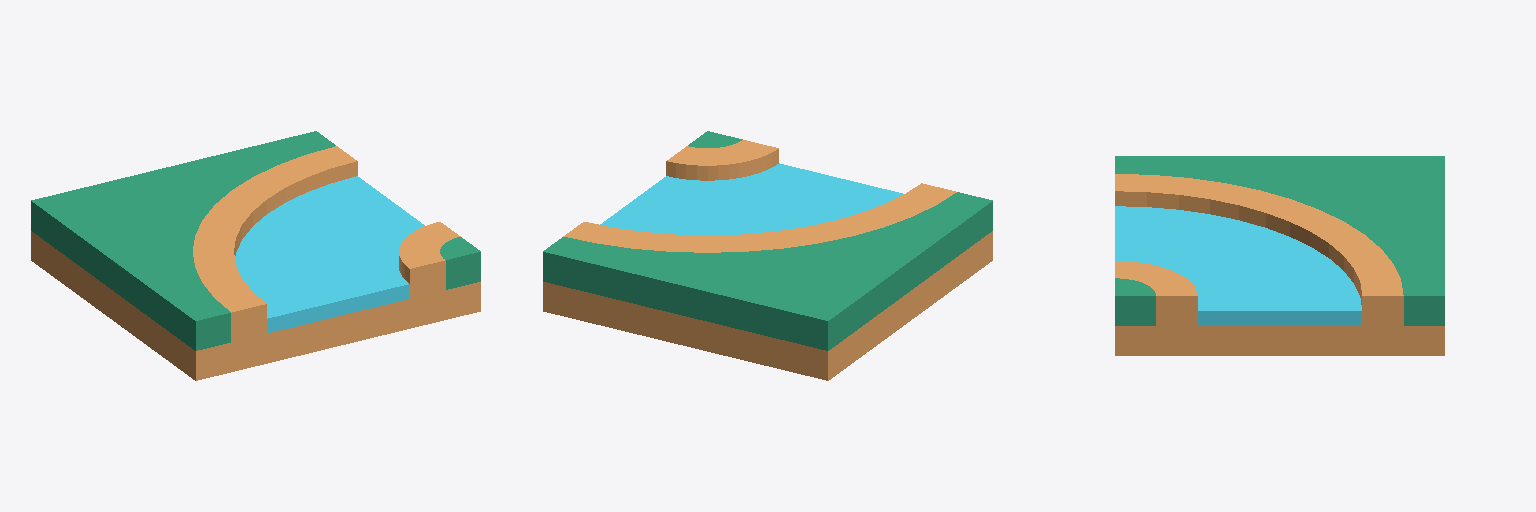
Rendered from tile_riverCorner.obj.
3 views of the same model, side by side, from view 1: azimuth 30°, elevation 25°; view 2: azimuth 150°, elevation 25°; view 3: azimuth 270°, elevation 25° (orthographic).
Parts seen in each view (by area): view 1: tile_riverCorner; view 2: tile_riverCorner; view 3: tile_riverCorner.
Part boxes in pixels (bbox=[...]): tile_riverCorner: bbox=[31, 131, 480, 380]; tile_riverCorner: bbox=[543, 131, 992, 380]; tile_riverCorner: bbox=[1115, 156, 1444, 355].
Size of the model in its own units: 1 by 0.2 by 1.